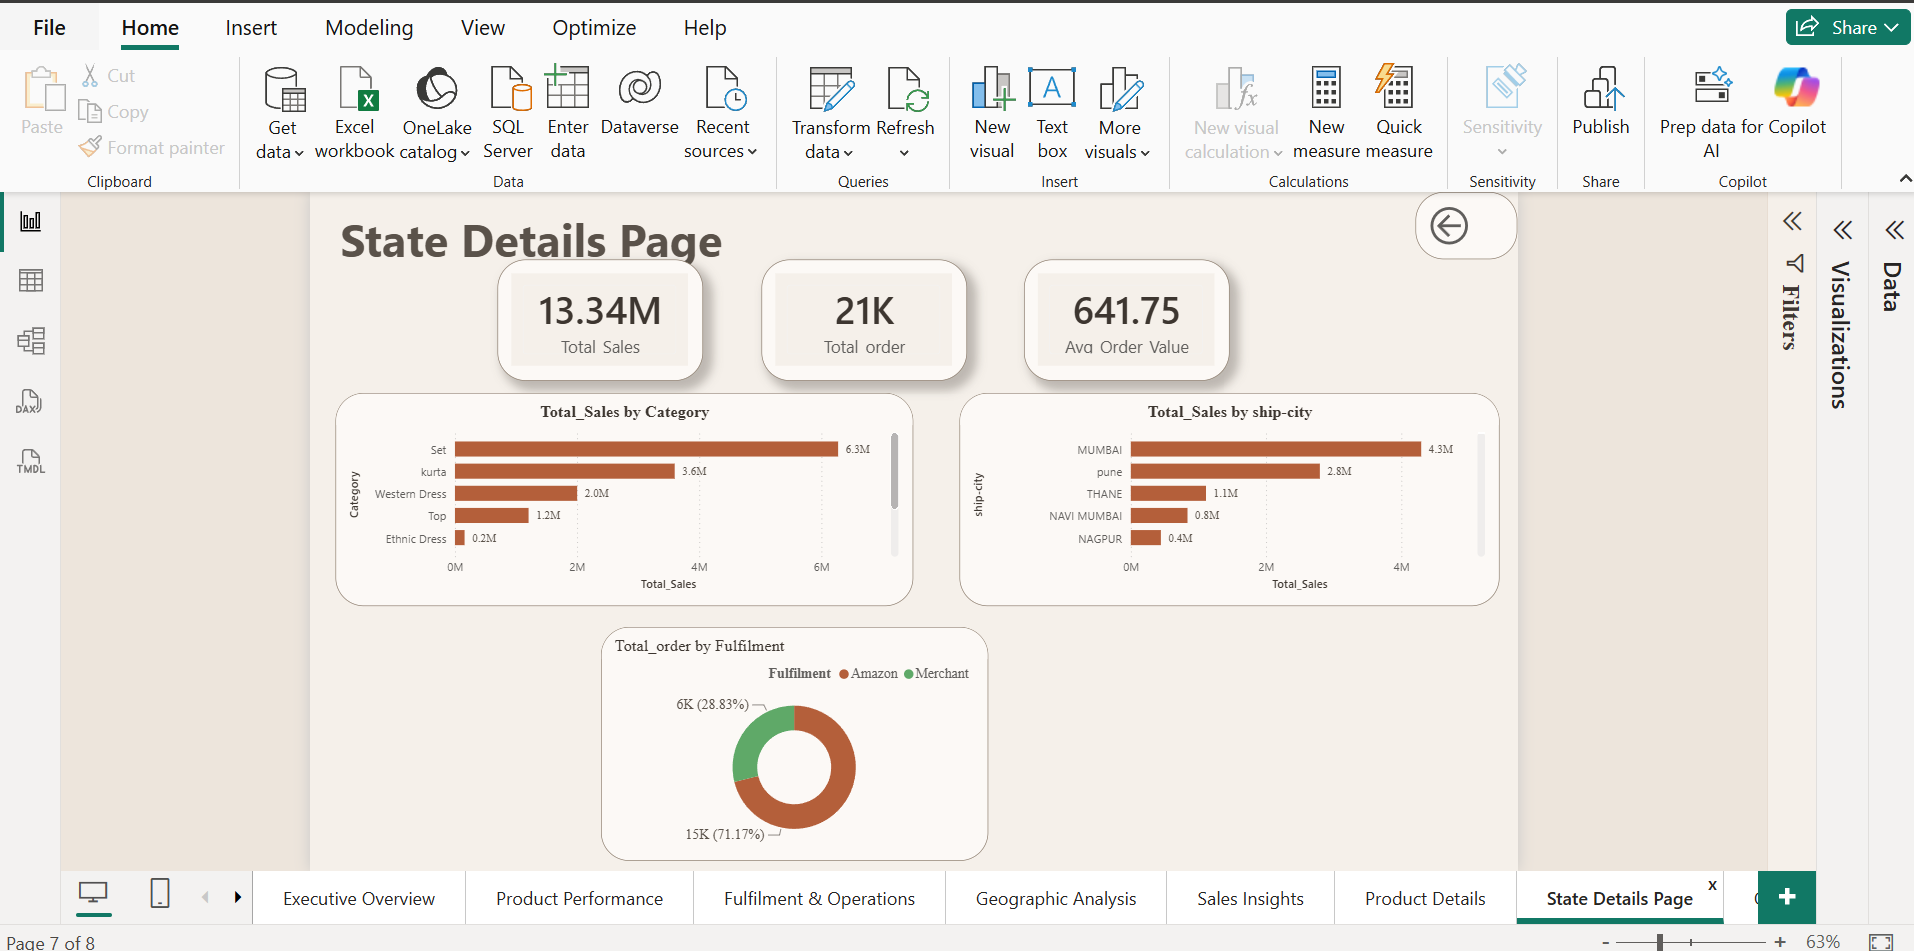

The page's visual inventory and layout, read from the dashboard file:
{"tool":"powerbi","page":{"name":"State Details Page","canvas":[1280,720],"ordinal":6},"visuals":[{"type":"textbox","box":[27,11.1,451.7,74.8],"z":0},{"type":"actionButton","box":[1172.3,0,108.2,71.6],"z":1000},{"type":"cardVisual","fields":{"Data":["amazon_sales_cleaned.Total_Sales"]},"box":[198.8,71.6,217.9,128.8],"z":2000},{"type":"cardVisual","fields":{"Data":["amazon_sales_cleaned.Total_order"]},"box":[478.8,71.6,217.9,128.8],"z":3000},{"type":"cardVisual","fields":{"Data":["amazon_sales_cleaned.Avg_Order_Value"]},"box":[757.1,71.6,217.9,128.8],"z":4000},{"type":"clusteredBarChart","fields":{"Category":["amazon_sales_cleaned.Category"],"Y":["amazon_sales_cleaned.Total_Sales"]},"box":[27,213.1,612.4,225.9],"z":5000},{"type":"barChart","fields":{"Category":["amazon_sales_cleaned.ship-city"],"Y":["amazon_sales_cleaned.Total_Sales"]},"box":[688.7,213.1,572.6,225.9],"z":6000},{"type":"donutChart","fields":{"Category":["amazon_sales_cleaned.Fulfilment"],"Y":["amazon_sales_cleaned.Total_order"]},"box":[308.6,461.3,410.4,248.1],"z":7000}]}

Visuals, with their boxes on the page's 1280x720 design canvas (x1, y1, x2, y2). These are canvas units, not pixel positions in the 1914x951 screenshot, which may show the page scaled, cropped or inside an application window:
textbox: crop(27, 11, 479, 86)
actionButton: crop(1172, 0, 1280, 72)
cardVisual - amazon_sales_cleaned.Total_Sales: crop(199, 72, 417, 200)
cardVisual - amazon_sales_cleaned.Total_order: crop(479, 72, 697, 200)
cardVisual - amazon_sales_cleaned.Avg_Order_Value: crop(757, 72, 975, 200)
clusteredBarChart - amazon_sales_cleaned.Category x amazon_sales_cleaned.Total_Sales: crop(27, 213, 639, 439)
barChart - amazon_sales_cleaned.ship-city x amazon_sales_cleaned.Total_Sales: crop(689, 213, 1261, 439)
donutChart - amazon_sales_cleaned.Fulfilment x amazon_sales_cleaned.Total_order: crop(309, 461, 719, 709)
